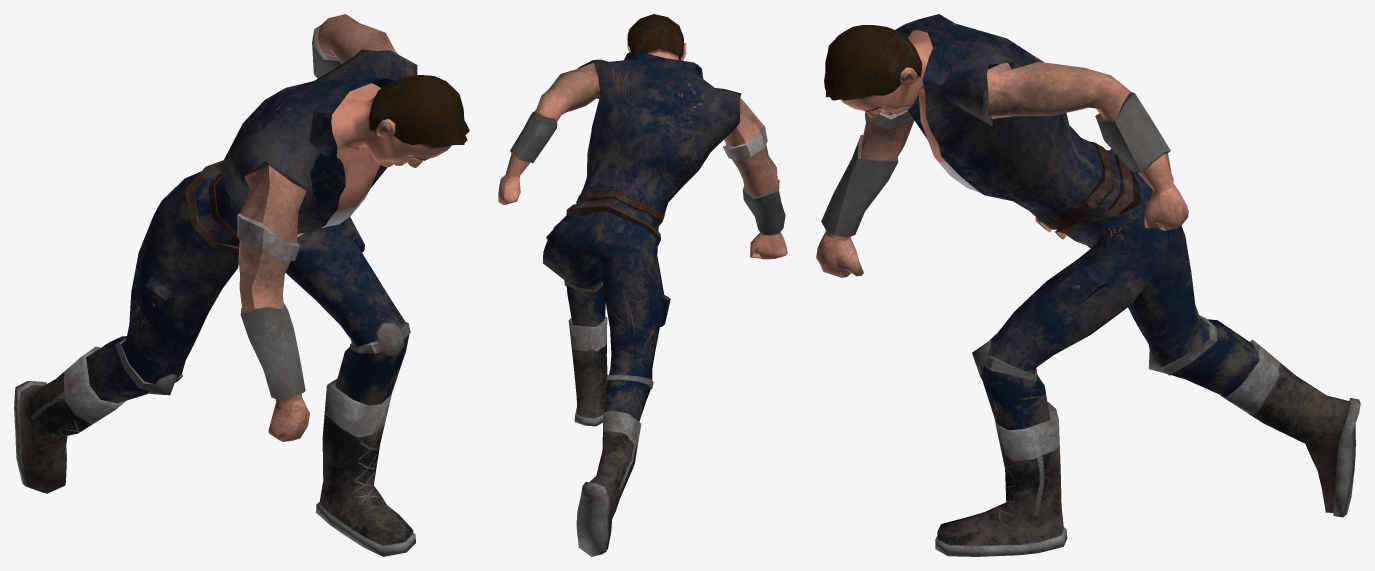
File: Anim_especial_jugador.0033.obj
3 renders of one model, left to right at view 1: azimuth 30°, elevation 25°; view 2: azimuth 150°, elevation 25°; view 3: azimuth 270°, elevation 25°, orthographic. The views are drawn at different scales.
Visible parts, largest first — view 1: polySurface1; view 2: polySurface1; view 3: polySurface1.
Part boxes in pixels (x1=…): polySurface1: x1=14, y1=14, x2=469, y2=556; polySurface1: x1=498, y1=14, x2=787, y2=556; polySurface1: x1=816, y1=14, x2=1360, y2=556.
Size of the model in its own units: 3.59 by 7.57 by 6.66.
